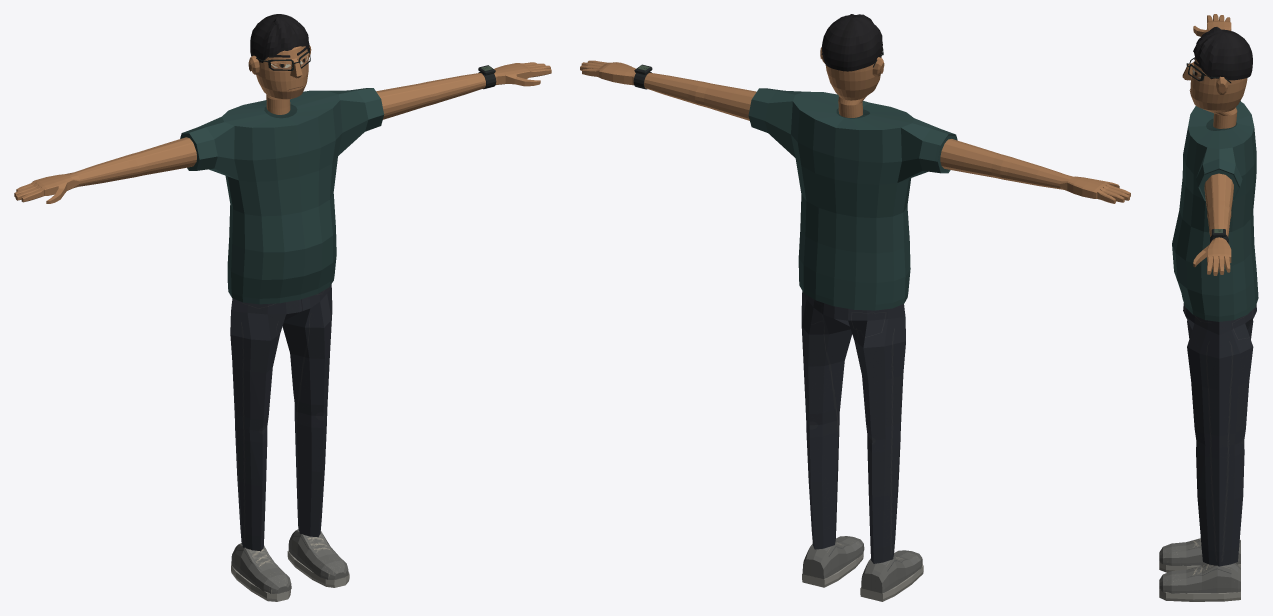
Rendered from Nico_LowPoly.glb.
The picture shows the model from 3 angles, left to right: view 1: azimuth 30°, elevation 25°; view 2: azimuth 150°, elevation 25°; view 3: azimuth 270°, elevation 25°; orthographic projection. The views are drawn at different scales.
Parts seen in each view (by area): view 1: Nico_TShirt • joined torso and sleeve topology, Nico_Jeans • continuous pelvis, crotch and joint loops, Nico_ArmAndFiveFingerHand.R, Nico_ArmAndFiveFingerHand.L, Nico_Skin_HeadAndNeck, Nico_Hair_ScalpMass • integrated crown cowlick, Nico_SneakerUpper.L, Nico_SneakerUpper.R; view 2: Nico_TShirt • joined torso and sleeve topology, Nico_Jeans • continuous pelvis, crotch and joint loops, Nico_ArmAndFiveFingerHand.R, Nico_ArmAndFiveFingerHand.L, Nico_Hair_ScalpMass • integrated crown cowlick, Nico_Skin_HeadAndNeck, Nico_SneakerUpper.R, Nico_SneakerUpper.L; view 3: Nico_TShirt • joined torso and sleeve topology, Nico_Jeans • continuous pelvis, crotch and joint loops, Nico_Hair_ScalpMass • integrated crown cowlick, Nico_ArmAndFiveFingerHand.L, Nico_SneakerUpper.L, Nico_Skin_HeadAndNeck, Nico_SneakerUpper.R, Nico_SneakerSole.L, Nico_ArmAndFiveFingerHand.R, Nico_SneakerSole.R, Nico_Ear.L.
Part boxes in pixels (box(x1,y1,x2,y2)): Nico_TShirt • joined torso and sleeve topology: box(180, 88, 384, 304); Nico_Jeans • continuous pelvis, crotch and joint loops: box(230, 284, 332, 551); Nico_ArmAndFiveFingerHand.R: box(14, 137, 196, 203); Nico_ArmAndFiveFingerHand.L: box(376, 62, 551, 119); Nico_Skin_HeadAndNeck: box(256, 46, 308, 114); Nico_Hair_ScalpMass • integrated crown cowlick: box(250, 14, 309, 62); Nico_SneakerUpper.L: box(288, 529, 348, 579); Nico_SneakerUpper.R: box(231, 543, 291, 593); Nico_TShirt • joined torso and sleeve topology: box(748, 88, 957, 310); Nico_Jeans • continuous pelvis, crotch and joint loops: box(801, 291, 905, 563); Nico_ArmAndFiveFingerHand.R: box(940, 139, 1130, 203); Nico_ArmAndFiveFingerHand.L: box(580, 60, 756, 120); Nico_Hair_ScalpMass • integrated crown cowlick: box(822, 14, 882, 71); Nico_Skin_HeadAndNeck: box(825, 56, 881, 117); Nico_SneakerUpper.R: box(861, 550, 922, 593); Nico_SneakerUpper.L: box(802, 536, 864, 578); Nico_TShirt • joined torso and sleeve topology: box(1172, 100, 1258, 321); Nico_Jeans • continuous pelvis, crotch and joint loops: box(1183, 303, 1256, 566); Nico_Hair_ScalpMass • integrated crown cowlick: box(1193, 27, 1252, 80); Nico_ArmAndFiveFingerHand.L: box(1193, 173, 1233, 275); Nico_SneakerUpper.L: box(1159, 563, 1240, 593); Nico_Skin_HeadAndNeck: box(1190, 59, 1247, 128); Nico_SneakerUpper.R: box(1159, 538, 1240, 565); Nico_SneakerSole.L: box(1159, 589, 1240, 601); Nico_ArmAndFiveFingerHand.R: box(1193, 14, 1231, 36); Nico_SneakerSole.R: box(1159, 562, 1240, 572); Nico_Ear.L: box(1216, 76, 1228, 94).
Bounding box in the file's own units: 1.76 × 1.75 × 0.285.
18 materials, 5 textured.
